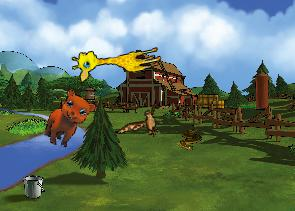bear: (40, 86, 99, 154)
eagle: (114, 94, 171, 153)
giraffe: (69, 35, 163, 84)
